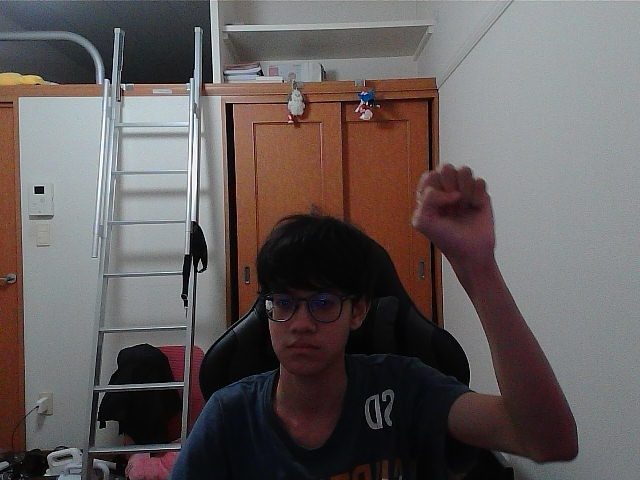closed_palm: (423, 168, 479, 249)
